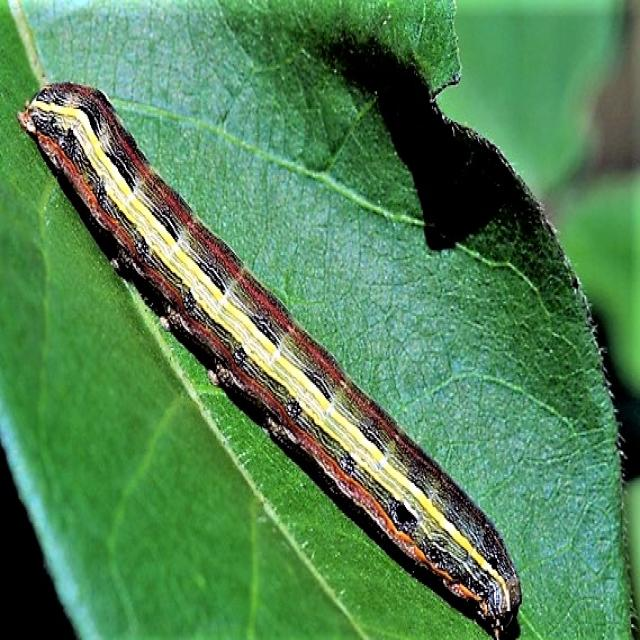armyworm: (17, 77, 523, 637)
